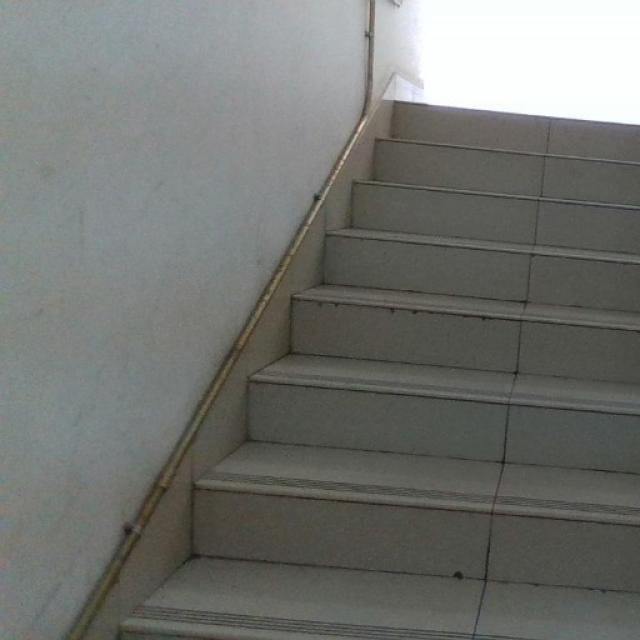stair: (225, 86, 640, 640)
